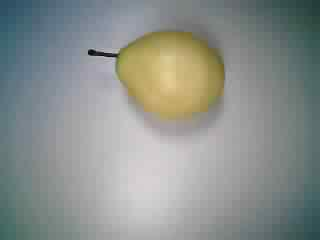pear: (80, 23, 235, 122)
